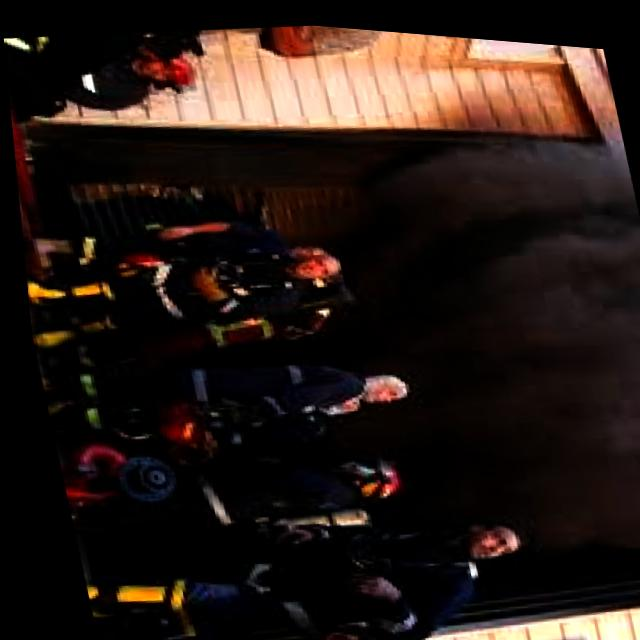no_helmet: (314, 103, 640, 577)
